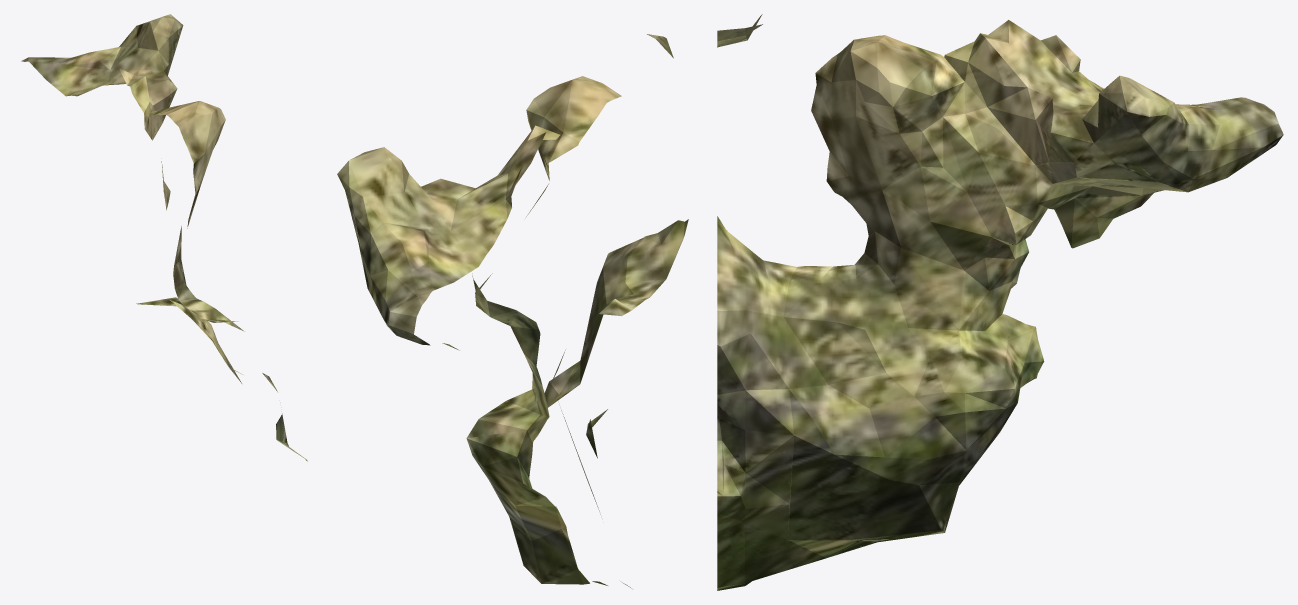
3 views of the same model, side by side, from view 1: azimuth 30°, elevation 25°; view 2: azimuth 150°, elevation 25°; view 3: azimuth 270°, elevation 25° (orthographic). The views are drawn at different scales.
Bounding box in the file's own units: 0.5862 × 2.24 × 2.
Materials: 1 (1 with a texture image).
